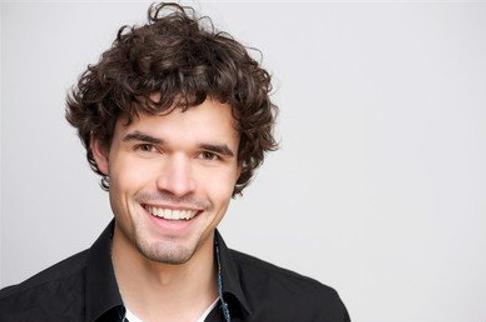Sober: (119, 100, 230, 241)
